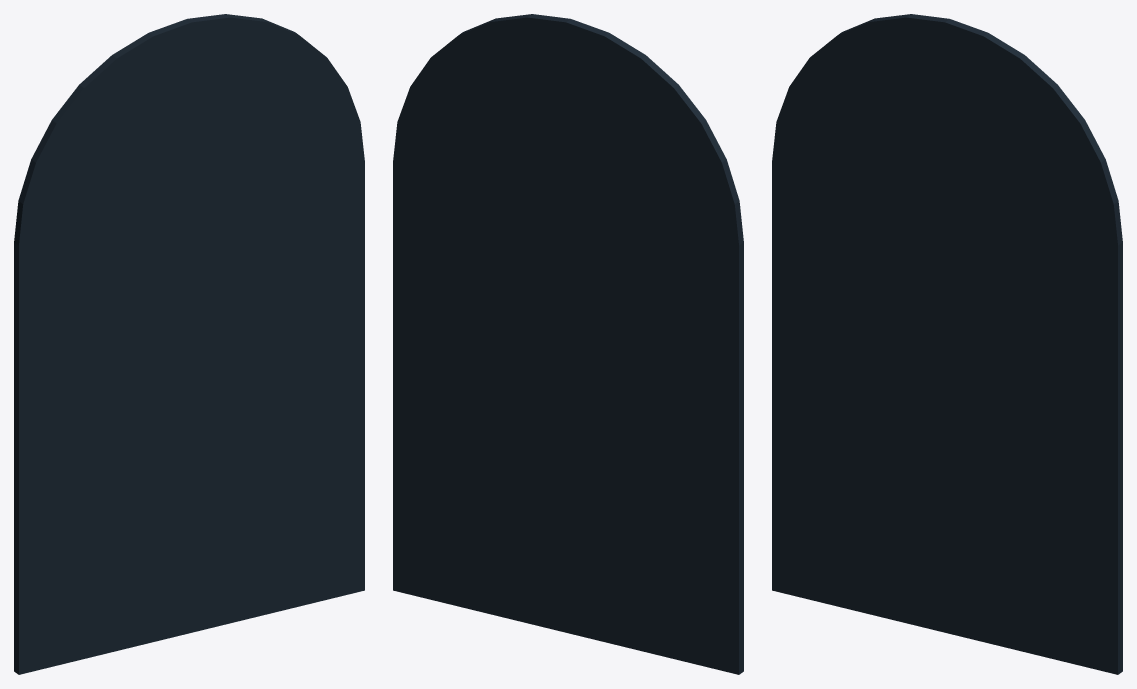
File: Glass_Mosque_Body.fbx
3 views of the same model, side by side, from view 1: azimuth 30°, elevation 25°; view 2: azimuth 150°, elevation 25°; view 3: azimuth 330°, elevation 25° (orthographic).
Parts seen in each view (by area): view 1: Glass_Mosque_Body_LOD0; view 2: Glass_Mosque_Body_LOD0; view 3: Glass_Mosque_Body_LOD0.
Boxes of the visible parts, x1,y1,x2,y2 form: Glass_Mosque_Body_LOD0: [14, 14, 364, 674]; Glass_Mosque_Body_LOD0: [393, 14, 743, 674]; Glass_Mosque_Body_LOD0: [772, 14, 1122, 674].
Size of the model in its own units: 124 by 209 by 3.
